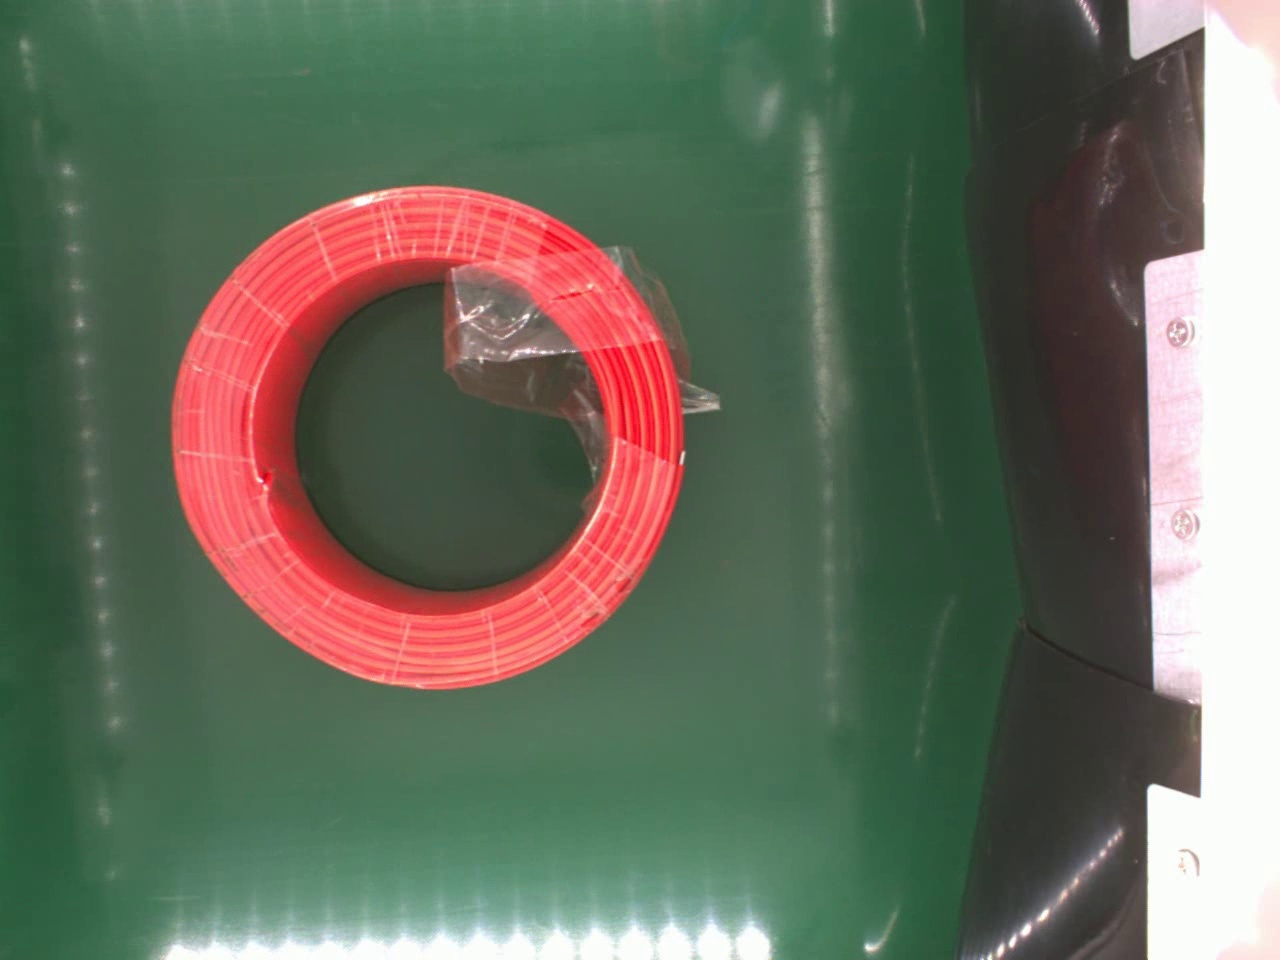red: (169, 181, 691, 688)
